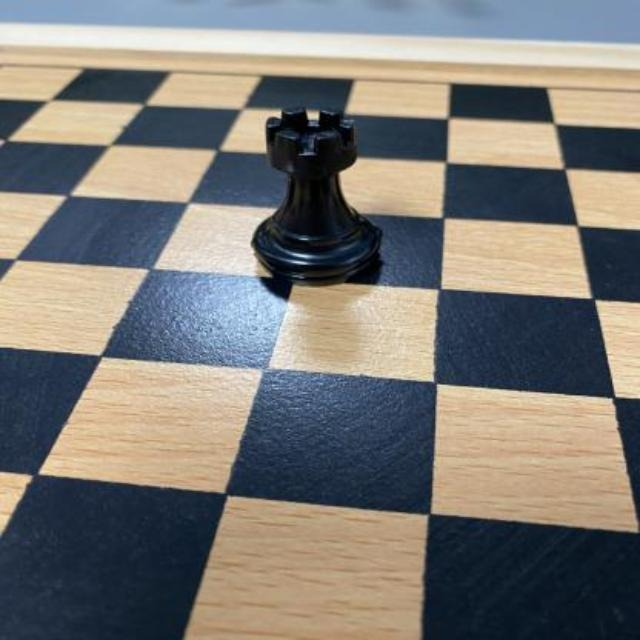black-rook: (249, 105, 387, 287)
